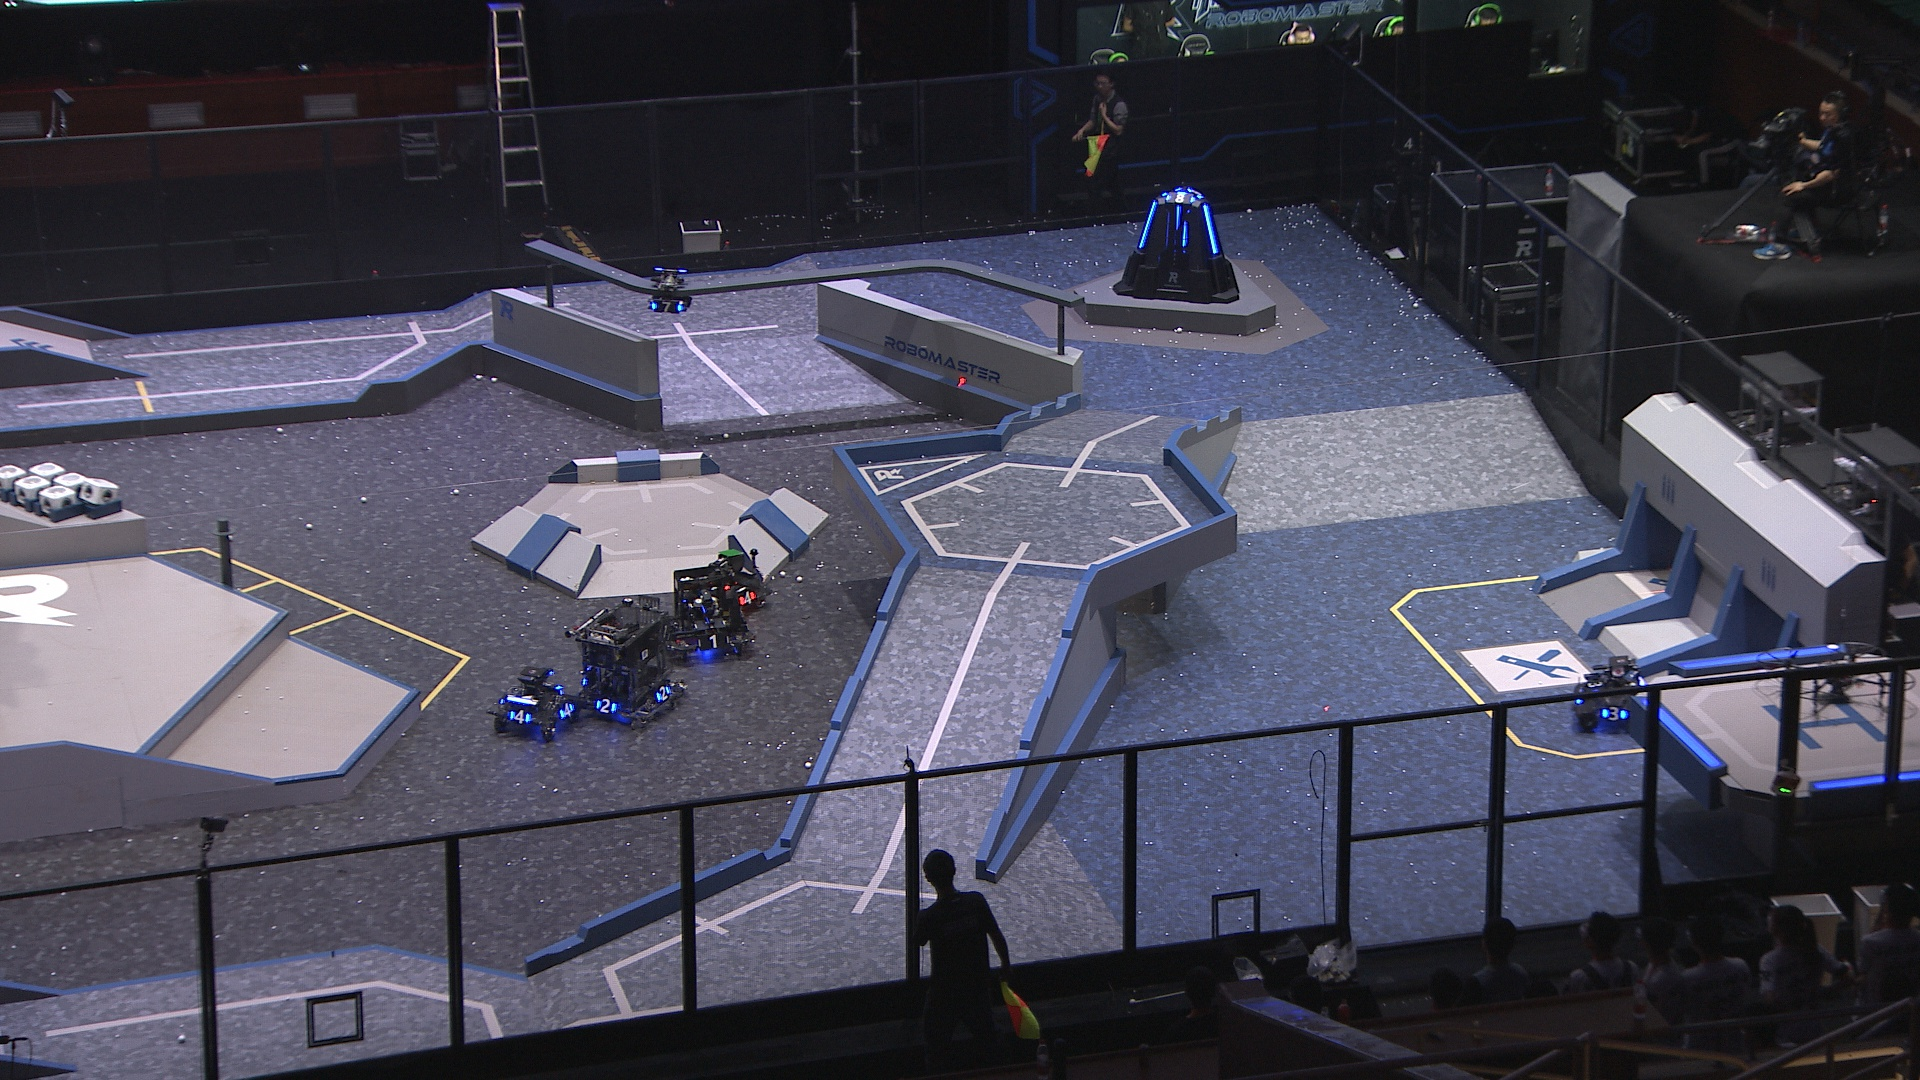armor: (1200, 202, 1222, 256), (1138, 199, 1160, 252), (698, 633, 732, 651), (1602, 704, 1629, 725), (692, 617, 731, 632), (647, 299, 684, 314), (593, 698, 621, 716), (1164, 191, 1199, 206), (510, 708, 531, 727), (654, 684, 673, 704), (558, 703, 576, 723), (1179, 220, 1191, 249), (1174, 204, 1185, 232), (738, 589, 756, 607), (1585, 679, 1605, 694)
base: (1112, 187, 1244, 305)
car: (564, 600, 686, 731), (662, 566, 756, 661), (485, 665, 578, 742), (1575, 657, 1660, 737), (698, 547, 773, 617)
watcher: (647, 266, 694, 316)
